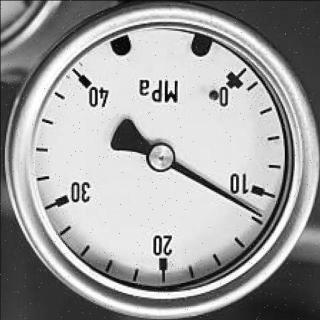gauge: (0, 0, 320, 320), (70, 61, 116, 109), (208, 64, 250, 110), (145, 140, 176, 173), (249, 206, 267, 221)
